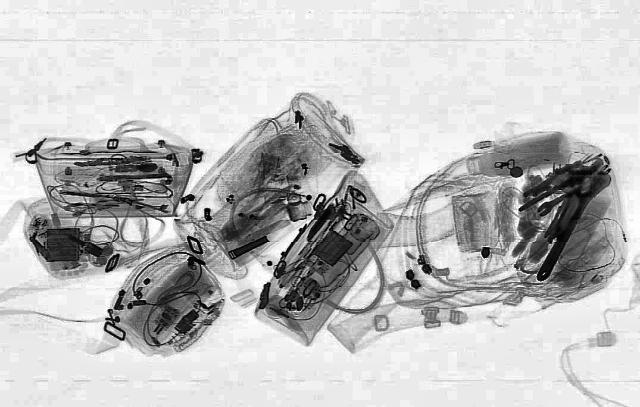Wrench: (523, 167, 615, 283), (530, 182, 590, 216)
